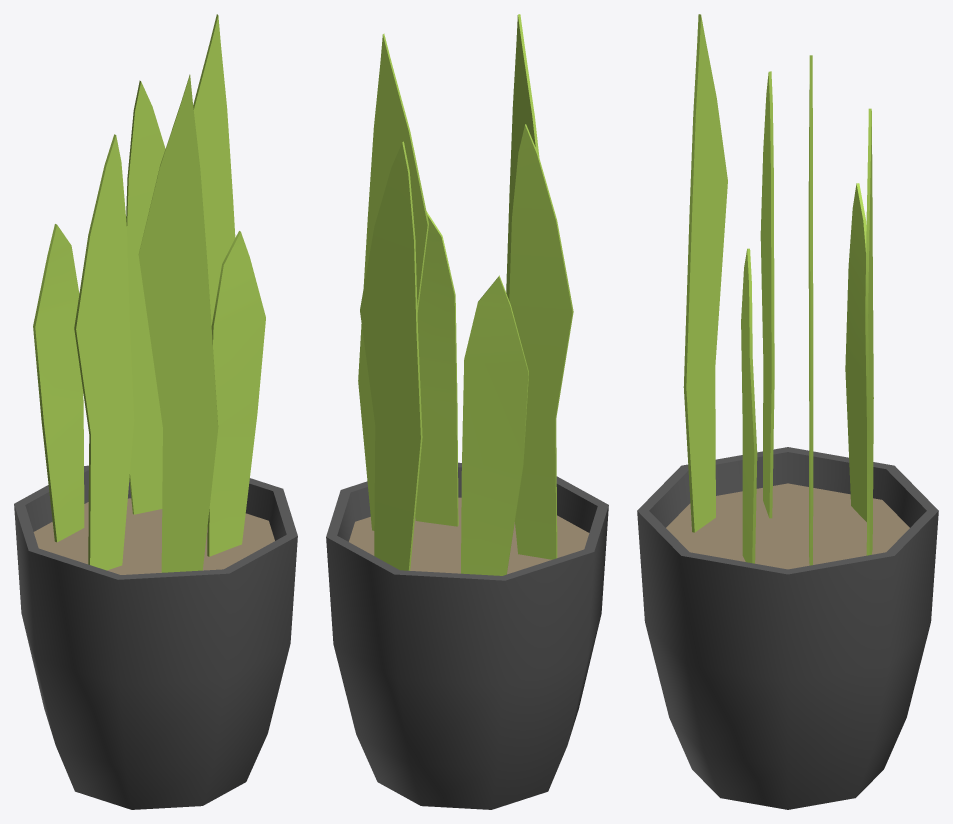
The model's file is houseplant_4.glb.
The picture shows the model from 3 angles, left to right: view 1: azimuth 30°, elevation 25°; view 2: azimuth 150°, elevation 25°; view 3: azimuth 270°, elevation 25°; orthographic projection. The views are drawn at different scales.
Parts seen in each view (by area): view 1: Houseplant_4; view 2: Houseplant_4; view 3: Houseplant_4.
Boxes of the visible parts, x1,y1,x2,y2 form: Houseplant_4: (14,14,297,809); Houseplant_4: (326,14,608,809); Houseplant_4: (637,14,938,809).
Bounding box in the file's own units: 0.3382 × 0.9284 × 0.3382.
